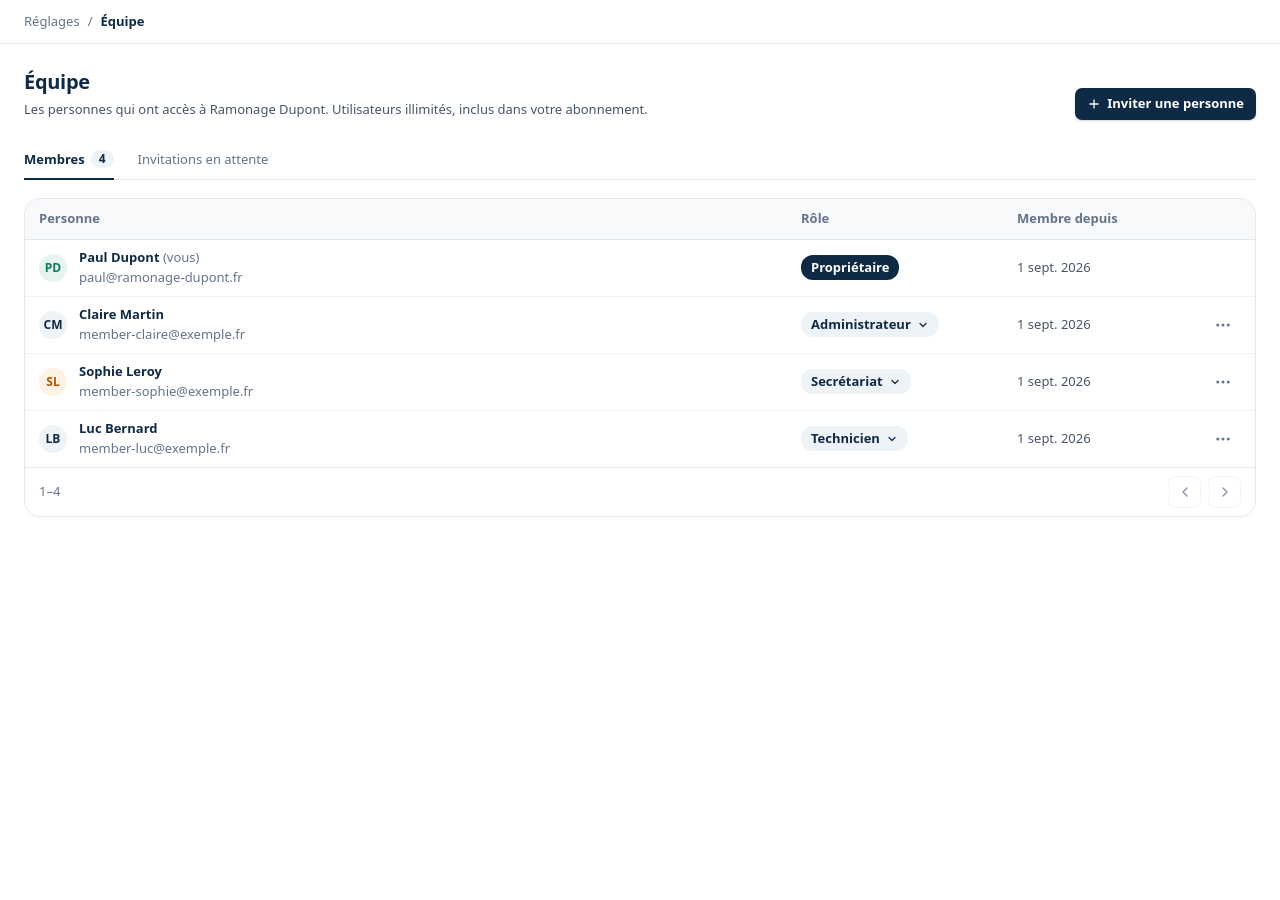
Scenario: TeamScreen › offers to invite someone when no invitation is pending
Click the tab "Invitations en attente" at coordinates (203, 160), box [138, 140, 268, 180]
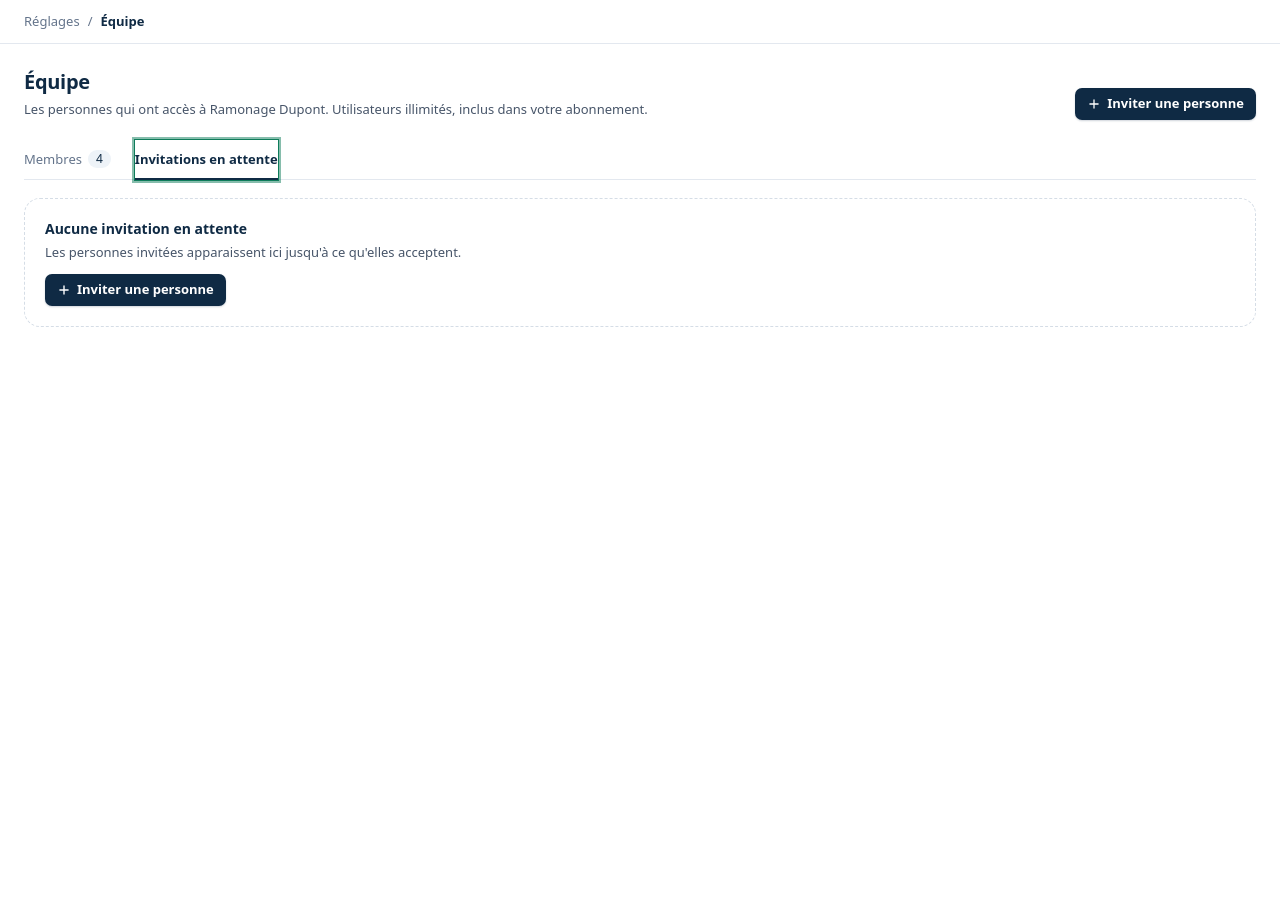
Expected: the text "Les personnes invitées apparaissent ici jusqu'à ce qu'elles acceptent." is shown, [45, 243, 461, 262]
Click the button "Inviter une personne" below "Aucune invitation en attente" at coordinates (135, 290), box [45, 274, 226, 306]
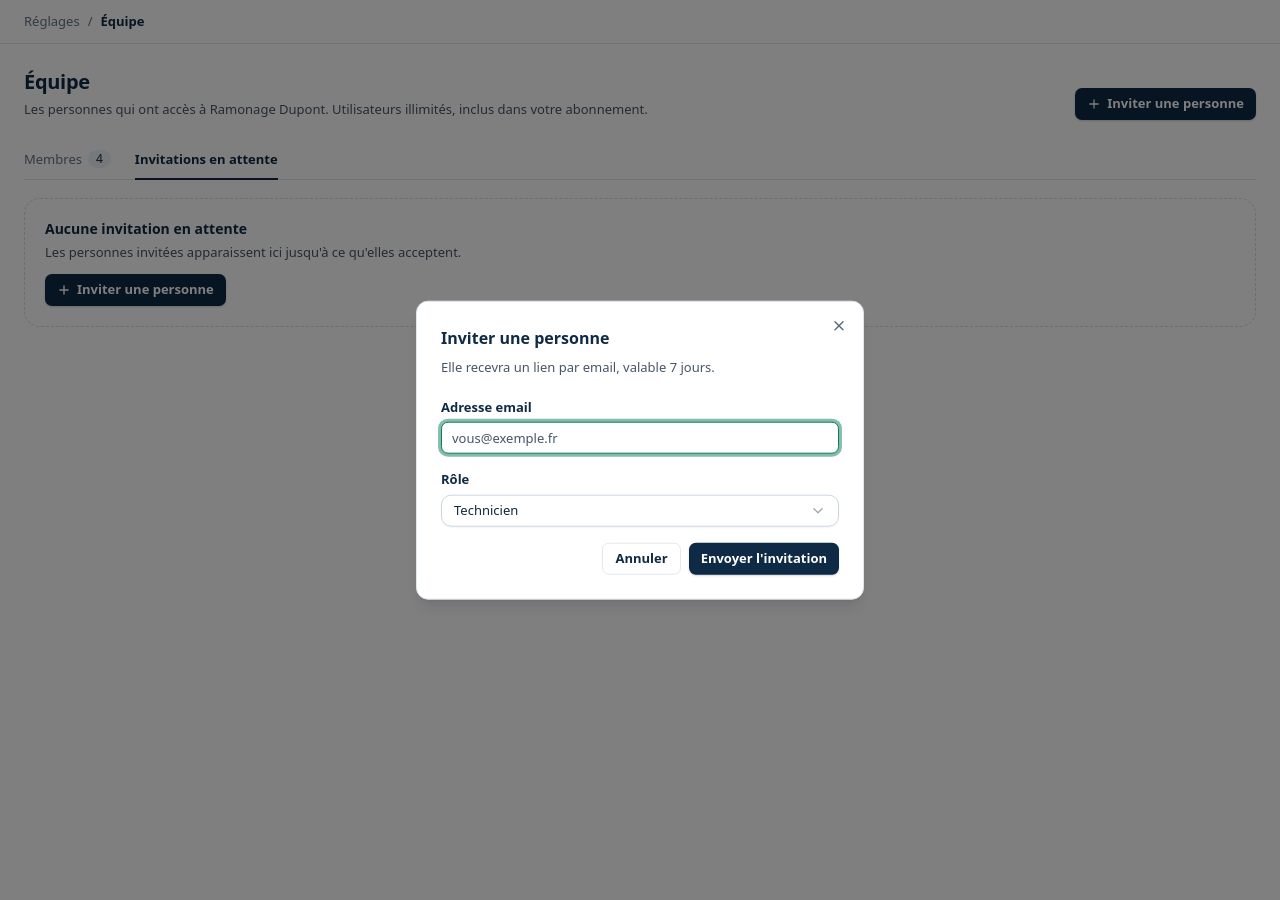
Expected: the dialog "Inviter une personne" is shown, [416, 301, 864, 599]
